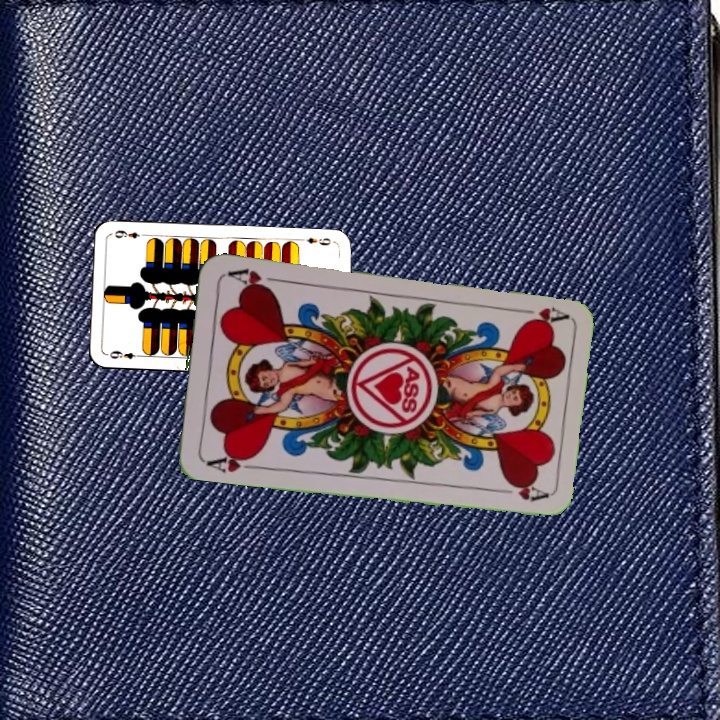E9: (298, 233, 338, 248), (104, 347, 145, 361)
HA: (199, 448, 259, 475), (510, 302, 569, 327)
